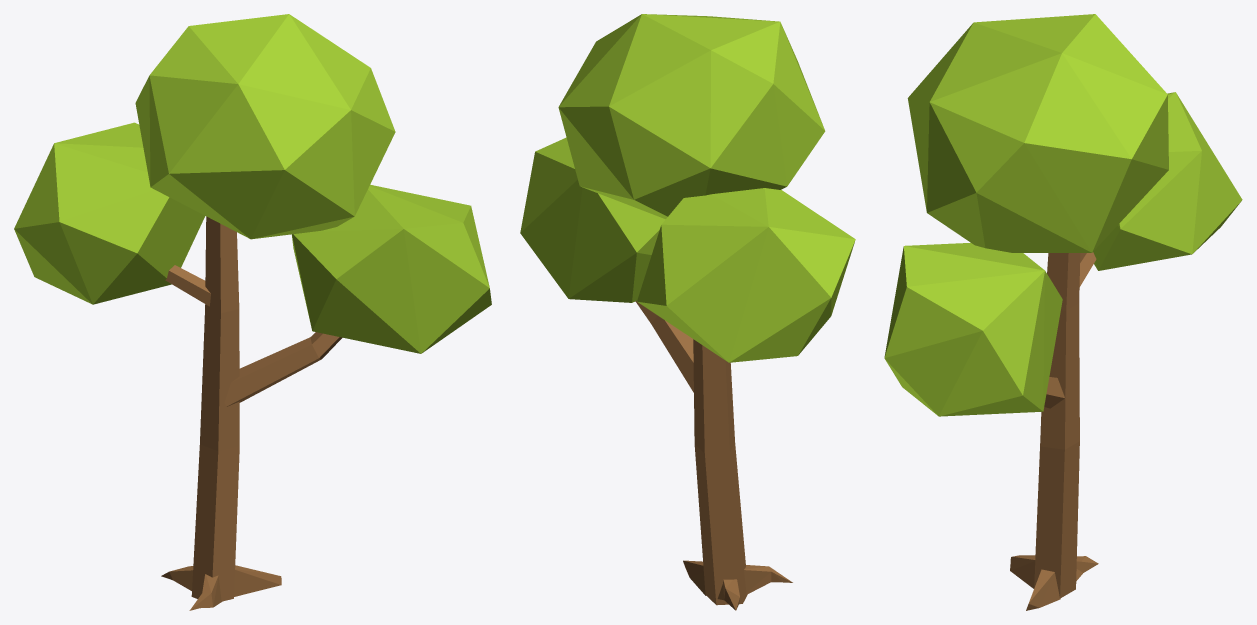
File: tree04.fbx
3 renders of one model, left to right at view 1: azimuth 30°, elevation 25°; view 2: azimuth 150°, elevation 25°; view 3: azimuth 270°, elevation 25°, orthographic. The views are drawn at different scales.
Parts seen in each view (by area): view 1: tree01; view 2: tree01; view 3: tree01.
Part boxes in pixels (x1,y1,x2,y2): tree01: (14,14,491,610); tree01: (520,14,855,610); tree01: (884,14,1242,610).
Size of the model in its own units: 330 by 470 by 264.
